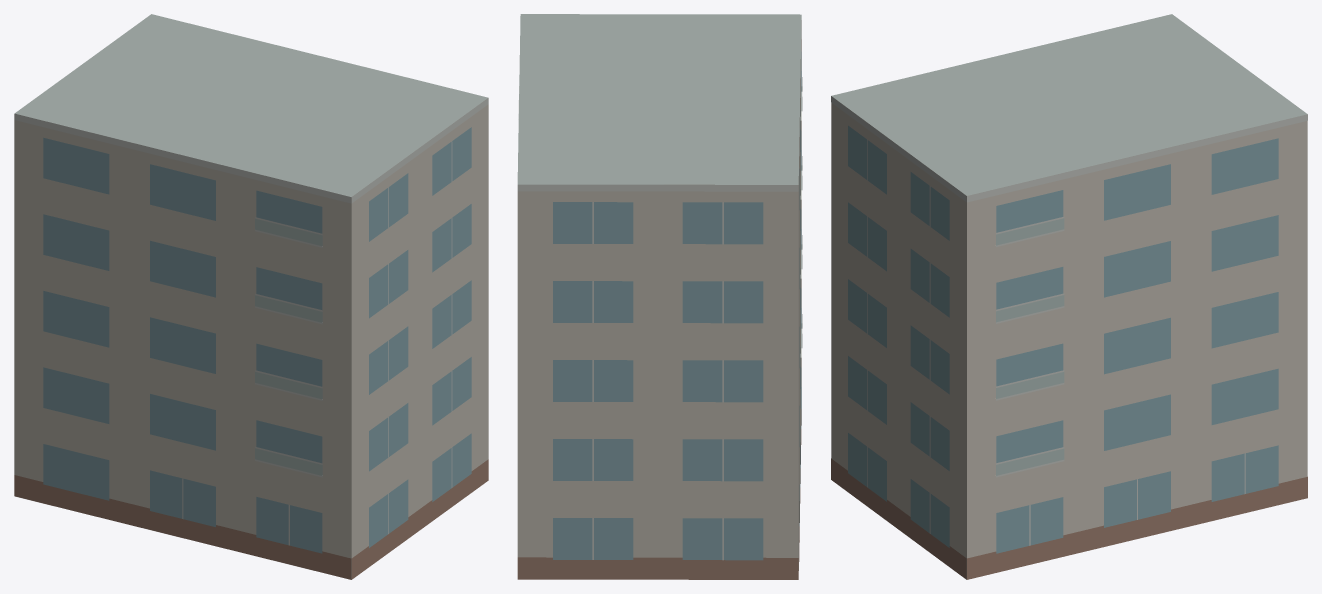
Rendered from survey-upis-32709341.glb.
3 renders of one model, left to right at view 1: azimuth 30°, elevation 25°; view 2: azimuth 150°, elevation 25°; view 3: azimuth 270°, elevation 25°, orthographic. The views are drawn at different scales.
Visible parts, largest first — view 1: survey-upis-32709341.tmp; view 2: survey-upis-32709341.tmp; view 3: survey-upis-32709341.tmp.
Part boxes in pixels (x1,y1,x2,y2): survey-upis-32709341.tmp: (14,14,488,579); survey-upis-32709341.tmp: (517,14,802,579); survey-upis-32709341.tmp: (831,14,1307,579).
Size of the model in its own units: 14.6 by 14.35 by 16.16.
